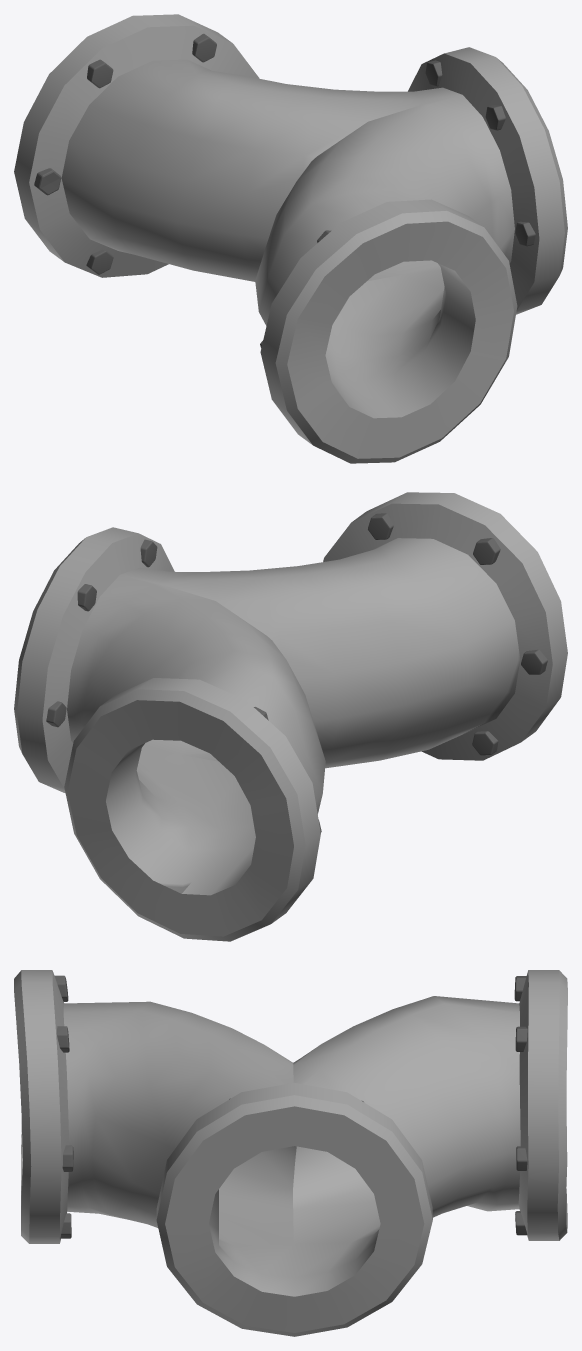
File: SM_tuyau_Y_low.fbx
3 views of the same model, one above another, from view 1: azimuth 30°, elevation 25°; view 2: azimuth 150°, elevation 25°; view 3: azimuth 270°, elevation 25° (orthographic).
Parts seen in each view (by area): view 1: SM_tuyau_Y_low; view 2: SM_tuyau_Y_low; view 3: SM_tuyau_Y_low.
Part boxes in pixels (x1,y1,x2,y2): SM_tuyau_Y_low: [14, 14, 567, 463]; SM_tuyau_Y_low: [14, 492, 567, 941]; SM_tuyau_Y_low: [14, 970, 567, 1336].
Bounding box in the file's own units: 39.41 × 26.44 × 53.
Materials: 1 (1 with a texture image).
